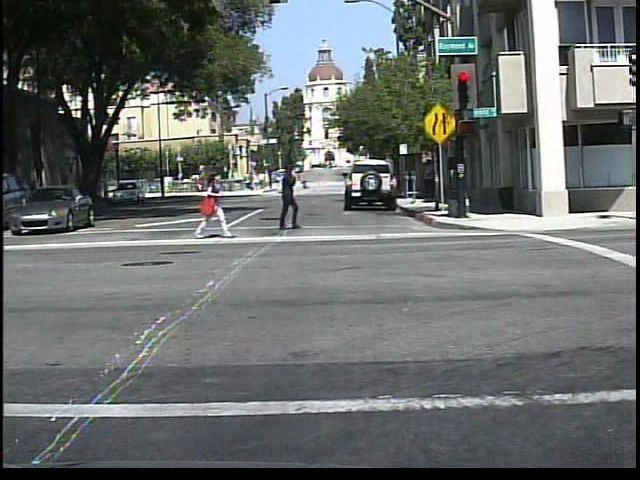person: (191, 166, 235, 242), (267, 161, 307, 234), (271, 172, 287, 193), (301, 176, 310, 193)
